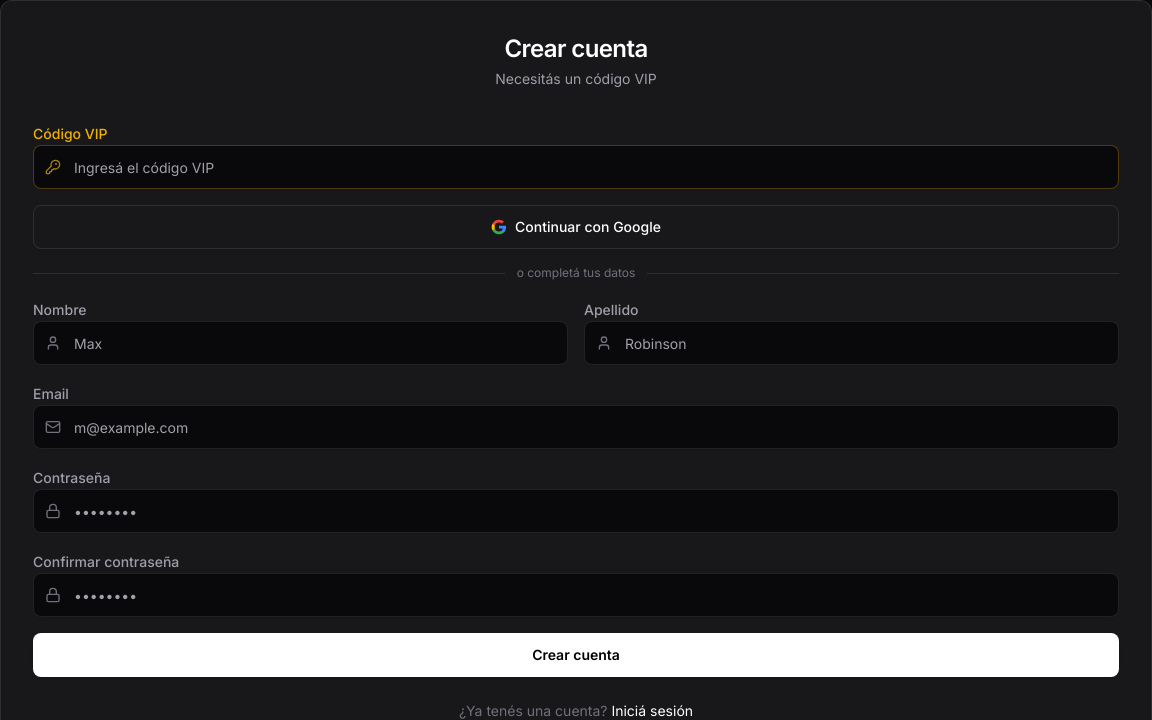
Test: SignUpForm › flags mismatched passwords
The width and height of the screenshot is (1152, 720).
Type "Ana" into the field labelled "Nombre". click: [300, 343]
box: 33,321 -> 568,365
Type "Pérez" into the field labelled "Apellido". click: [852, 343]
box: 584,321 -> 1119,365
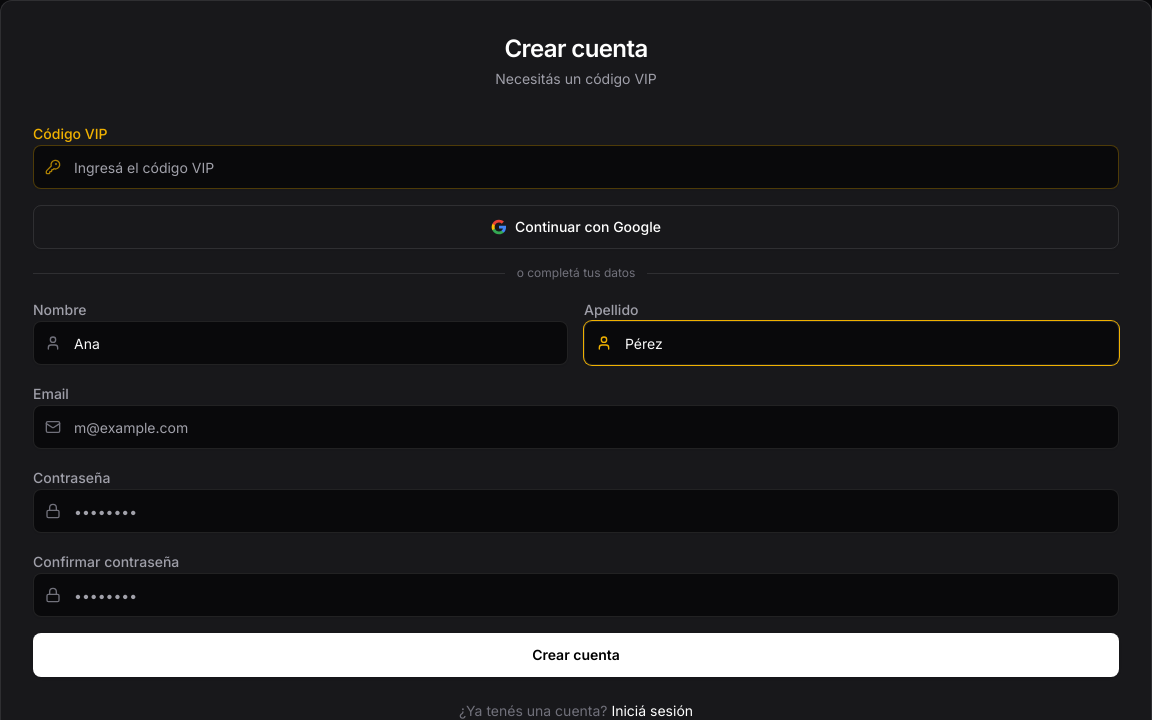
Type "ana@example.com" into the field labelled "Email". click: [576, 427]
box: 33,405 -> 1119,449
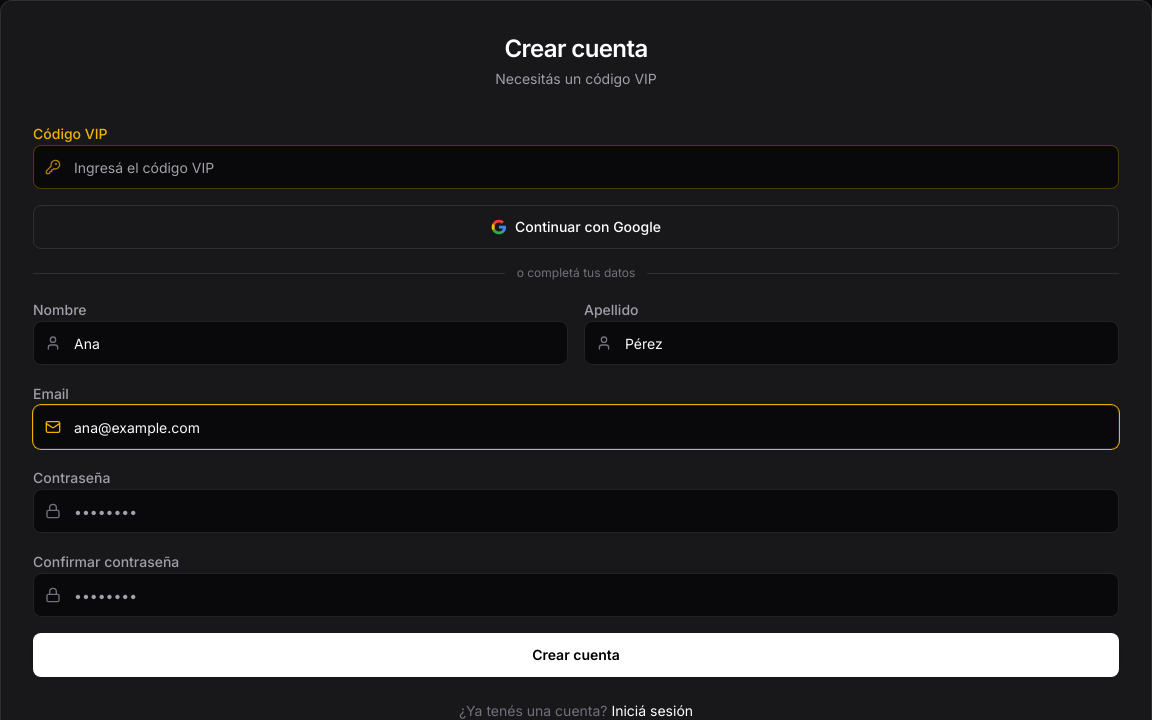
Type "supersecret" into the password field labelled "Contraseña". click: [576, 511]
box: 33,489 -> 1119,533
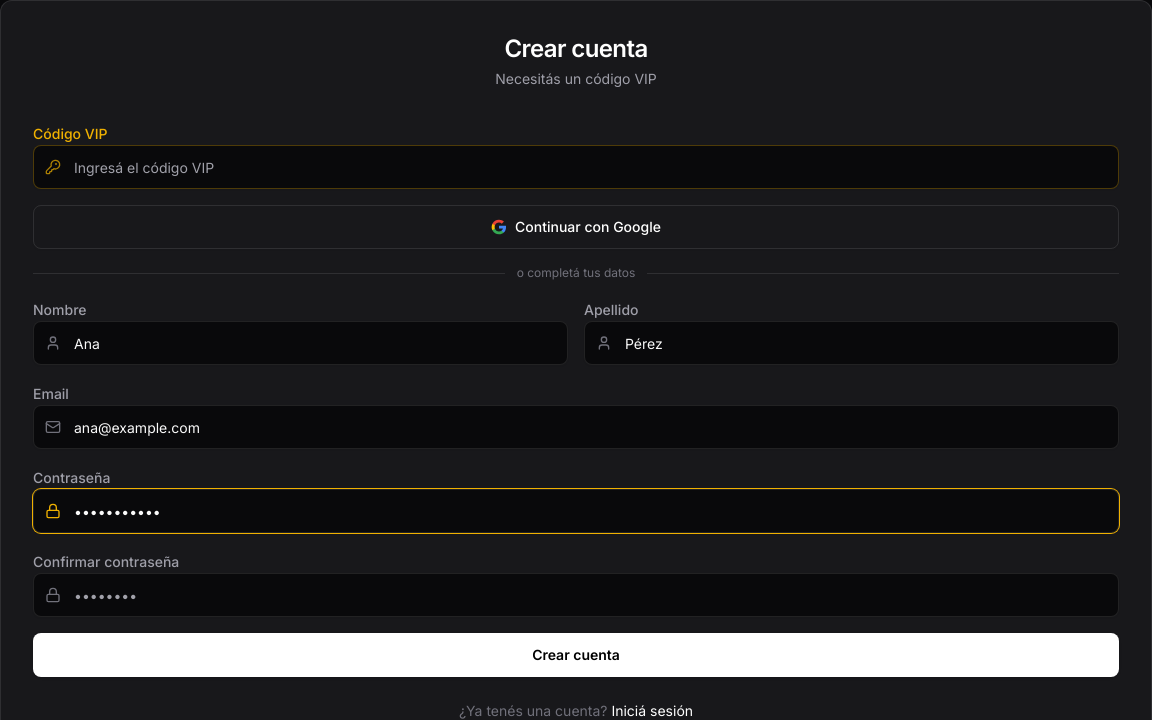
Type "different1" into the password field labelled "Confirmar contraseña". click: [576, 595]
box: 33,573 -> 1119,617
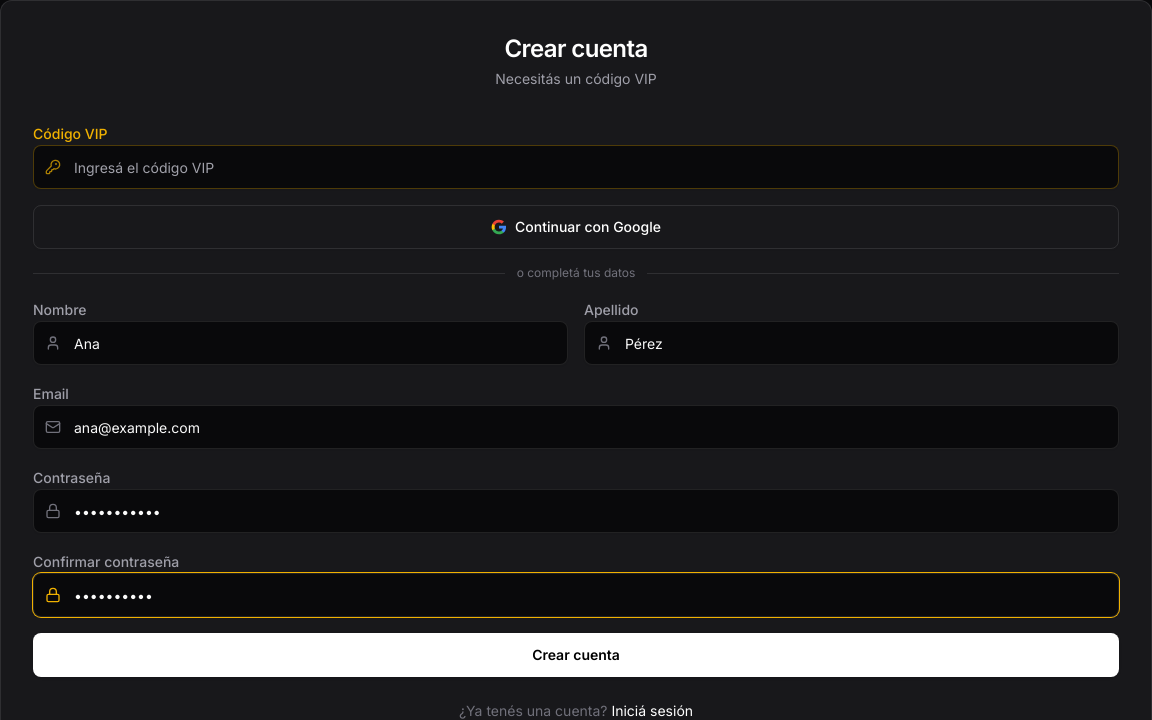
Type "vip" into the password field labelled "Código VIP". click: [576, 167]
box: 33,145 -> 1119,189
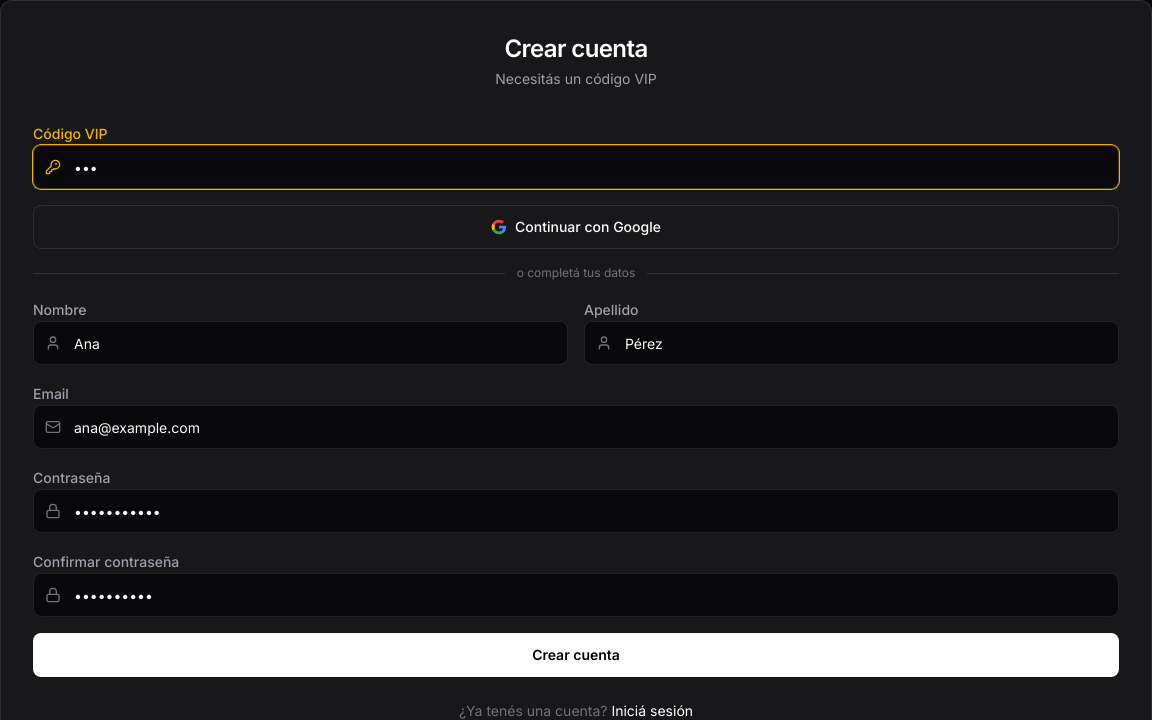
Click the button "Crear cuenta". click: [576, 655]
box: 33,633 -> 1119,677
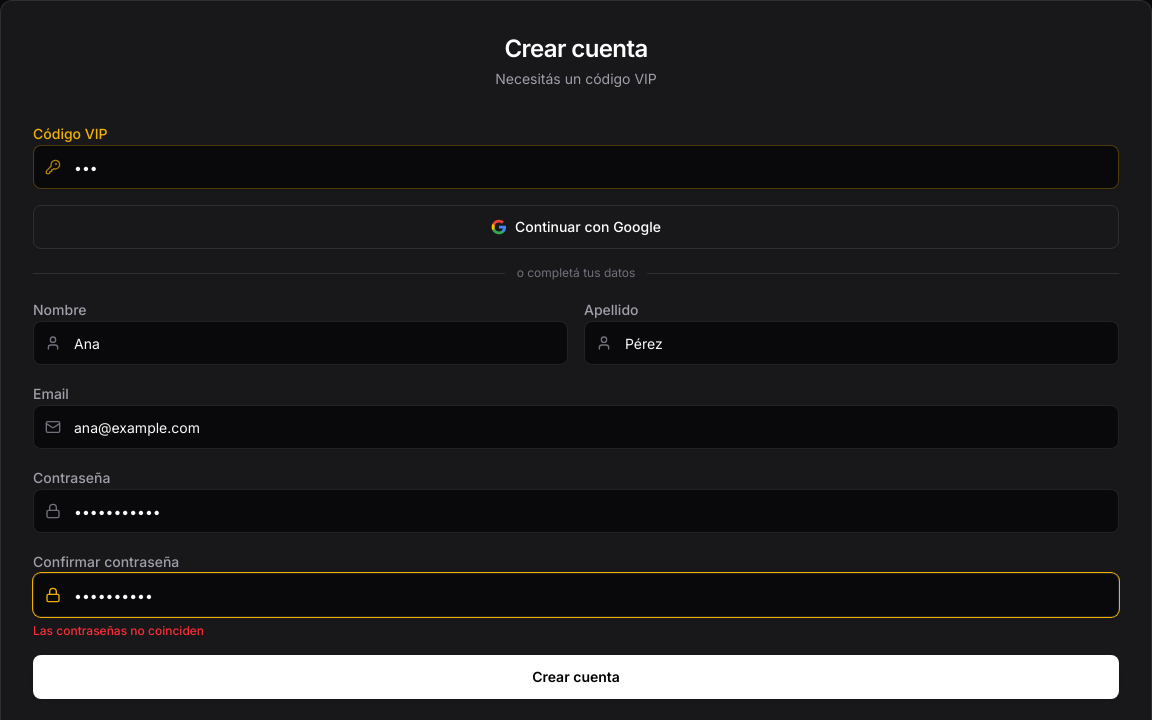
Expected: the text "Las contraseñas no coinciden" is shown, 33,623 -> 204,638
